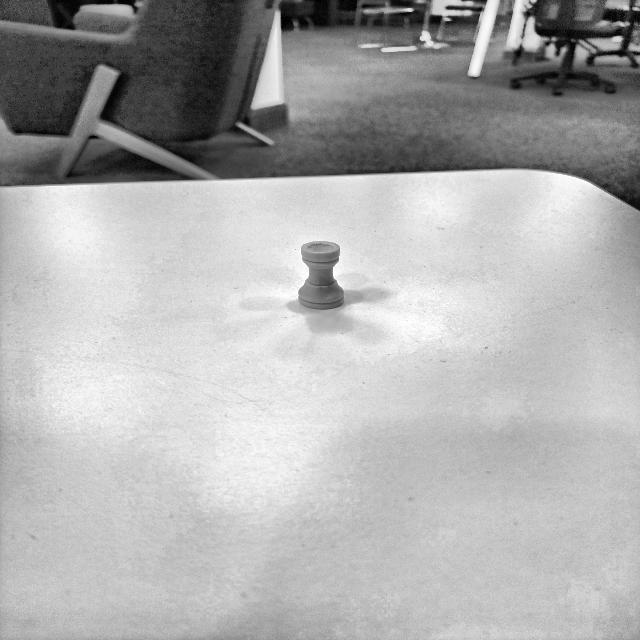white-rook: (298, 242, 344, 309)
